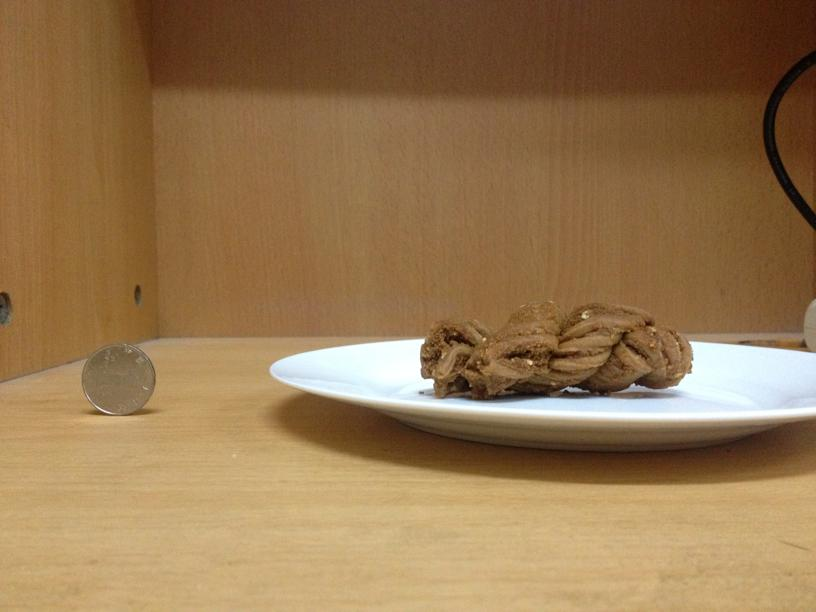coin: (79, 343, 155, 416)
fired_dough_twist: (414, 304, 692, 402)
